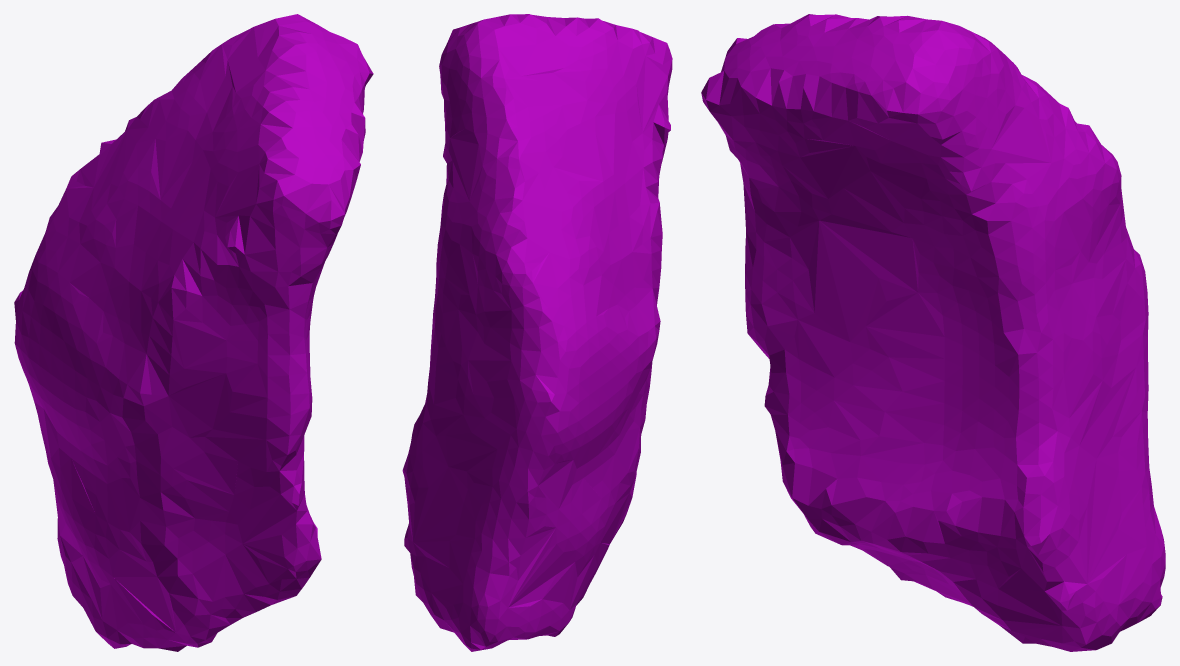
Rendered from Model_46_RH__Area_13b_of_cortex_(A13b).obj.
3 views of the same model, side by side, from view 1: azimuth 30°, elevation 25°; view 2: azimuth 150°, elevation 25°; view 3: azimuth 270°, elevation 25° (orthographic). The views are drawn at different scales.
Size of the model in its own units: 1.2 by 2.96 by 1.92.
